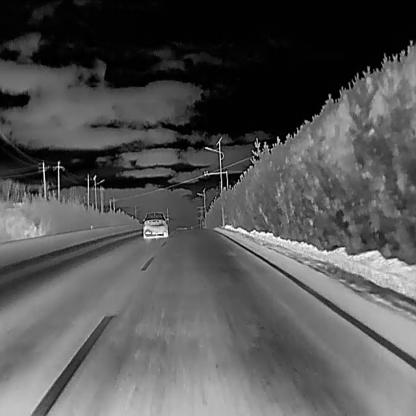car: (142, 211, 168, 240)
